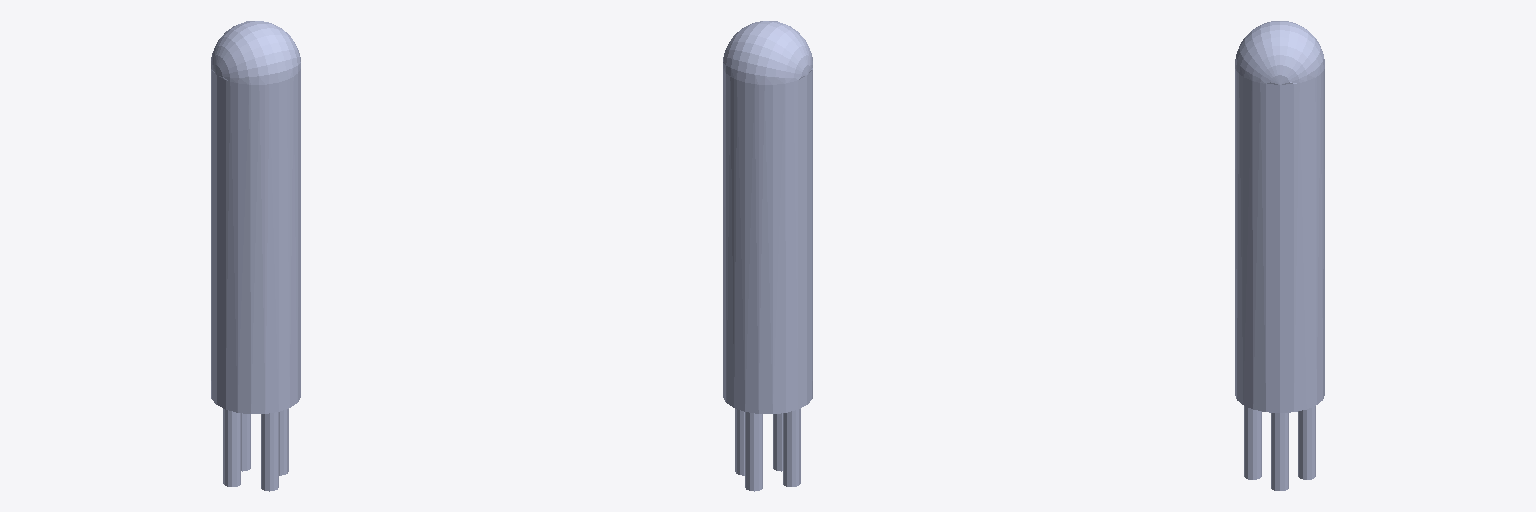
robot.urdf — rocketfull_urdf:
<?xml version="1.0" encoding="utf-8"?>
<!-- This URDF was automatically created by SolidWorks to URDF Exporter! Originally created by [author] ([email redacted]) 
     Commit Version: 1.6.0-1-g15f4949  Build Version: 1.6.7594.29634
     For more information, please see http://wiki.ros.org/sw_urdf_exporter -->
<robot
  name="rocketfull_urdf">
  <link
    name="base_link">
    <inertial>
      <origin
        xyz="-1.7347E-18 -2.4286E-17 1.0366"
        rpy="0 0 0" />
      <mass
        value="441.13" />
      <inertia
        ixx="201.18"
        ixy="-1.963E-16"
        ixz="3.2248E-15"
        iyy="201.18"
        iyz="7.8944E-15"
        izz="13.463" />
    </inertial>
    <visual>
      <origin
        xyz="0 0 0"
        rpy="0 0 0" />
      <geometry>
        <mesh
          filename="package://rocketfull_urdf/meshes/base_link.STL" />
      </geometry>
      <material
        name="">
        <color
          rgba="0.79216 0.81961 0.93333 1" />
      </material>
    </visual>
    <collision>
      <origin
        xyz="0 0 0"
        rpy="0 0 0" />
      <geometry>
        <mesh
          filename="package://rocketfull_urdf/meshes/base_link.STL" />
      </geometry>
    </collision>
  </link>
</robot>

--- What the picture shows (computed from the rendered views, not written in the file) ---
The picture shows the robot from 3 angles, left to right: view 1: azimuth 30°, elevation 25°; view 2: azimuth 150°, elevation 25°; view 3: azimuth 270°, elevation 25°; orthographic projection.
Robot: rocketfull_urdf — 1 links, 0 joints (none); root link base_link; default pose: all joints at 0.
Visible links, largest first — view 1: base_link; view 2: base_link; view 3: base_link.
Link boxes in pixels (x1=…): base_link: x1=211, y1=21, x2=300, y2=491; base_link: x1=723, y1=21, x2=812, y2=491; base_link: x1=1235, y1=21, x2=1324, y2=490.
Bounding box of the posed robot: 0.5 × 0.5 × 2.75 m (x, y, z).
1 mesh visuals loaded from 1 distinct referenced files (1 binary STL).